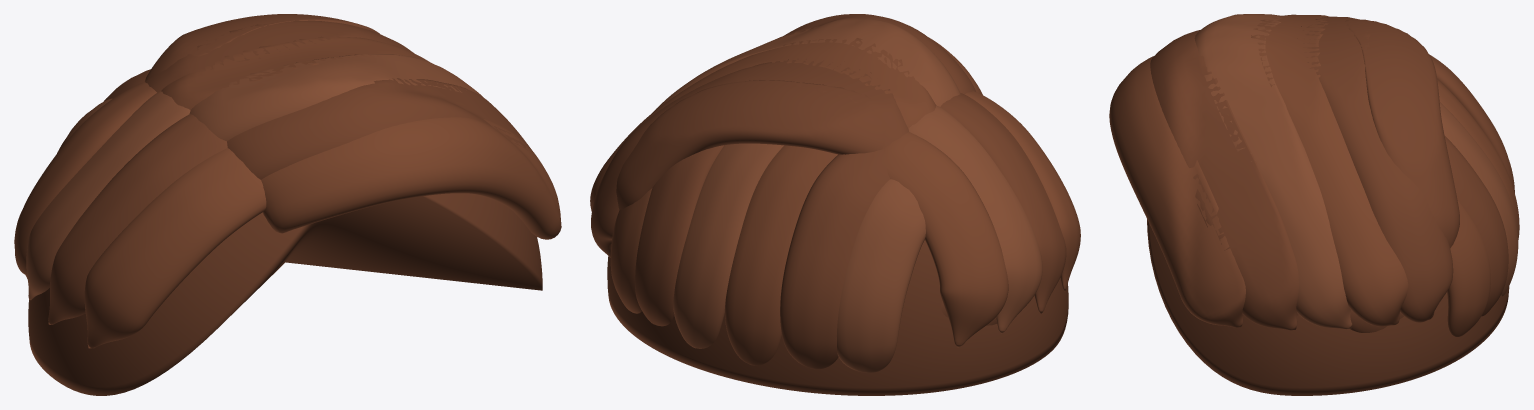
File: Masculine-sidepart-pashmina258-hair.glb
3 views of the same model, side by side, from view 1: azimuth 30°, elevation 25°; view 2: azimuth 150°, elevation 25°; view 3: azimuth 270°, elevation 25° (orthographic). The views are drawn at different scales.
Parts seen in each view (by area): view 1: 226 hair / Hair258 / sculpted side sweep 1, 226 hair / Hair258 / recessed roots, 226 hair / Hair258 / sculpted side sweep 0, 226 hair / Hair258 / sculpted side sweep 2; view 2: 226 hair / Hair258 / sculpted side sweep 0, 226 hair / Hair258 / sculpted side sweep 1, 226 hair / Hair258 / sculpted side sweep 2, 226 hair / Hair258 / recessed roots; view 3: 226 hair / Hair258 / sculpted side sweep 0, 226 hair / Hair258 / sculpted side sweep 1, 226 hair / Hair258 / sculpted side sweep 2, 226 hair / Hair258 / recessed roots.
Part boxes in pixels (x1,y1,x2,y2): 226 hair / Hair258 / sculpted side sweep 1: (14,36,561,348); 226 hair / Hair258 / recessed roots: (28,193,542,395); 226 hair / Hair258 / sculpted side sweep 0: (48,14,532,324); 226 hair / Hair258 / sculpted side sweep 2: (26,54,483,300); 226 hair / Hair258 / sculpted side sweep 0: (591,14,1066,369); 226 hair / Hair258 / sculpted side sweep 1: (590,38,1080,365); 226 hair / Hair258 / sculpted side sweep 2: (652,18,1042,372); 226 hair / Hair258 / recessed roots: (607,240,1068,395); 226 hair / Hair258 / sculpted side sweep 0: (1150,16,1514,332); 226 hair / Hair258 / sculpted side sweep 1: (1109,14,1519,336); 226 hair / Hair258 / sculpted side sweep 2: (1194,14,1518,329); 226 hair / Hair258 / recessed roots: (1147,219,1509,395).
Bounding box in the file's own units: 0.9741 × 0.5526 × 0.7913.
